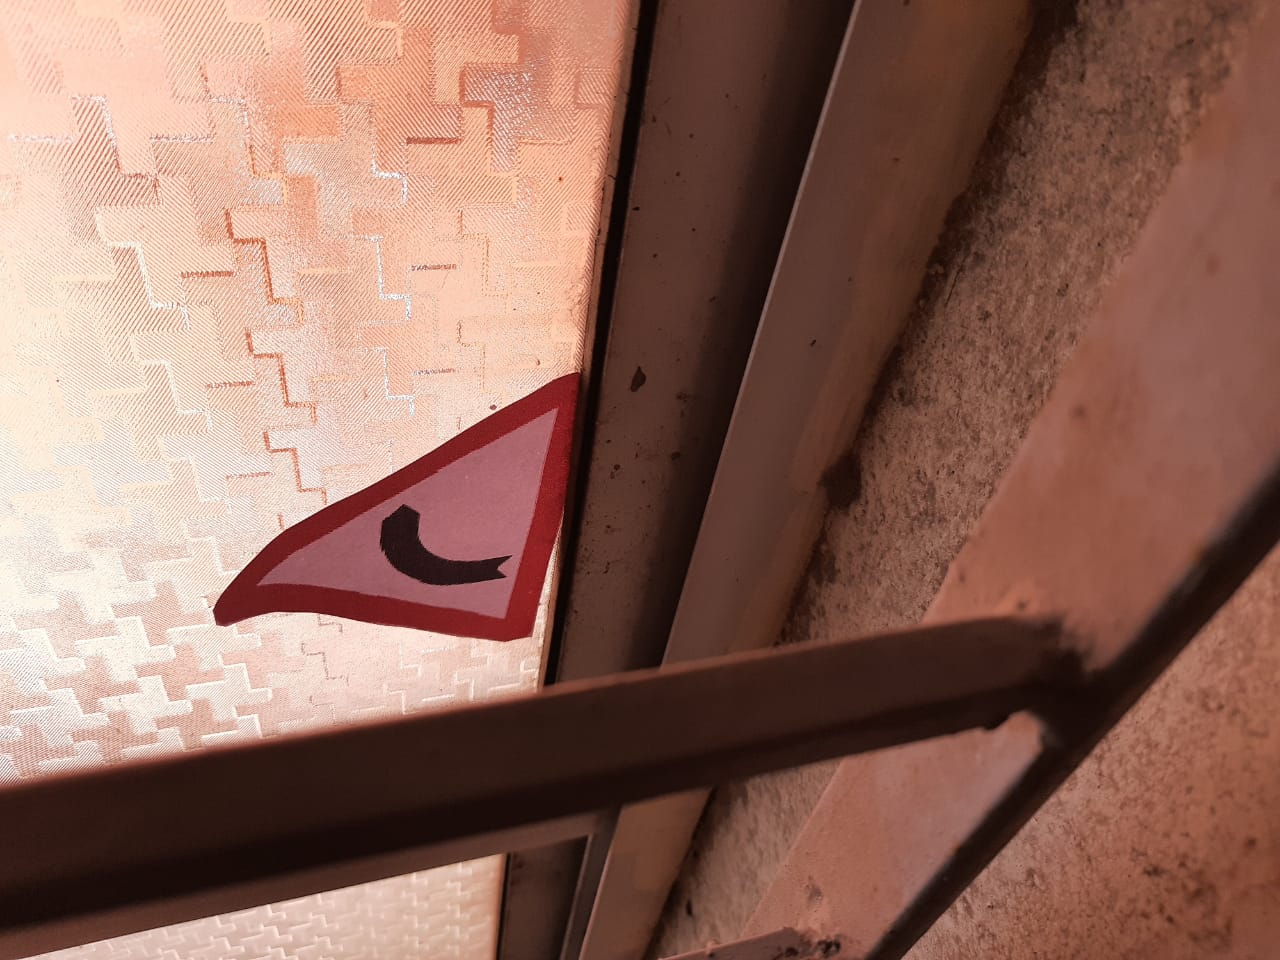RIGHT CURVE: (205, 322, 570, 645)
